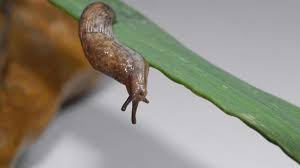slug: (78, 5, 149, 124)
